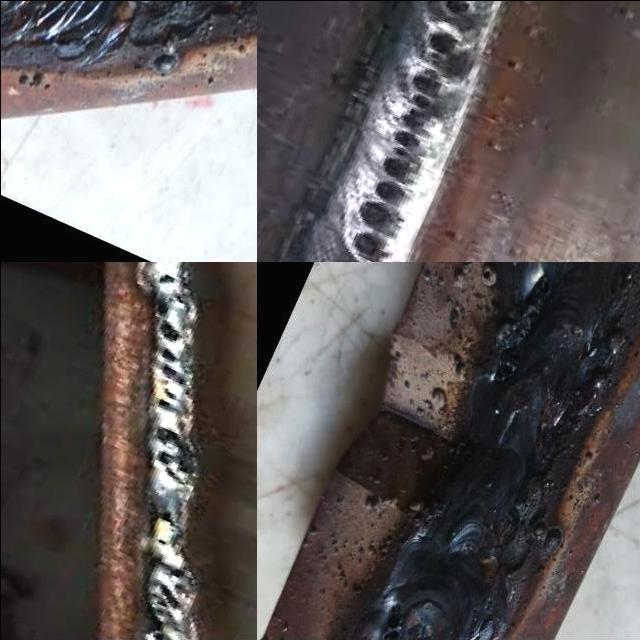defect: (345, 59, 447, 262), (502, 274, 553, 346), (148, 424, 200, 484), (148, 562, 190, 627), (148, 345, 183, 413), (421, 21, 476, 61), (151, 296, 181, 347), (375, 599, 405, 640), (490, 349, 521, 385), (436, 0, 481, 19), (155, 507, 180, 533), (153, 270, 178, 288), (143, 628, 173, 640), (154, 536, 168, 546)
